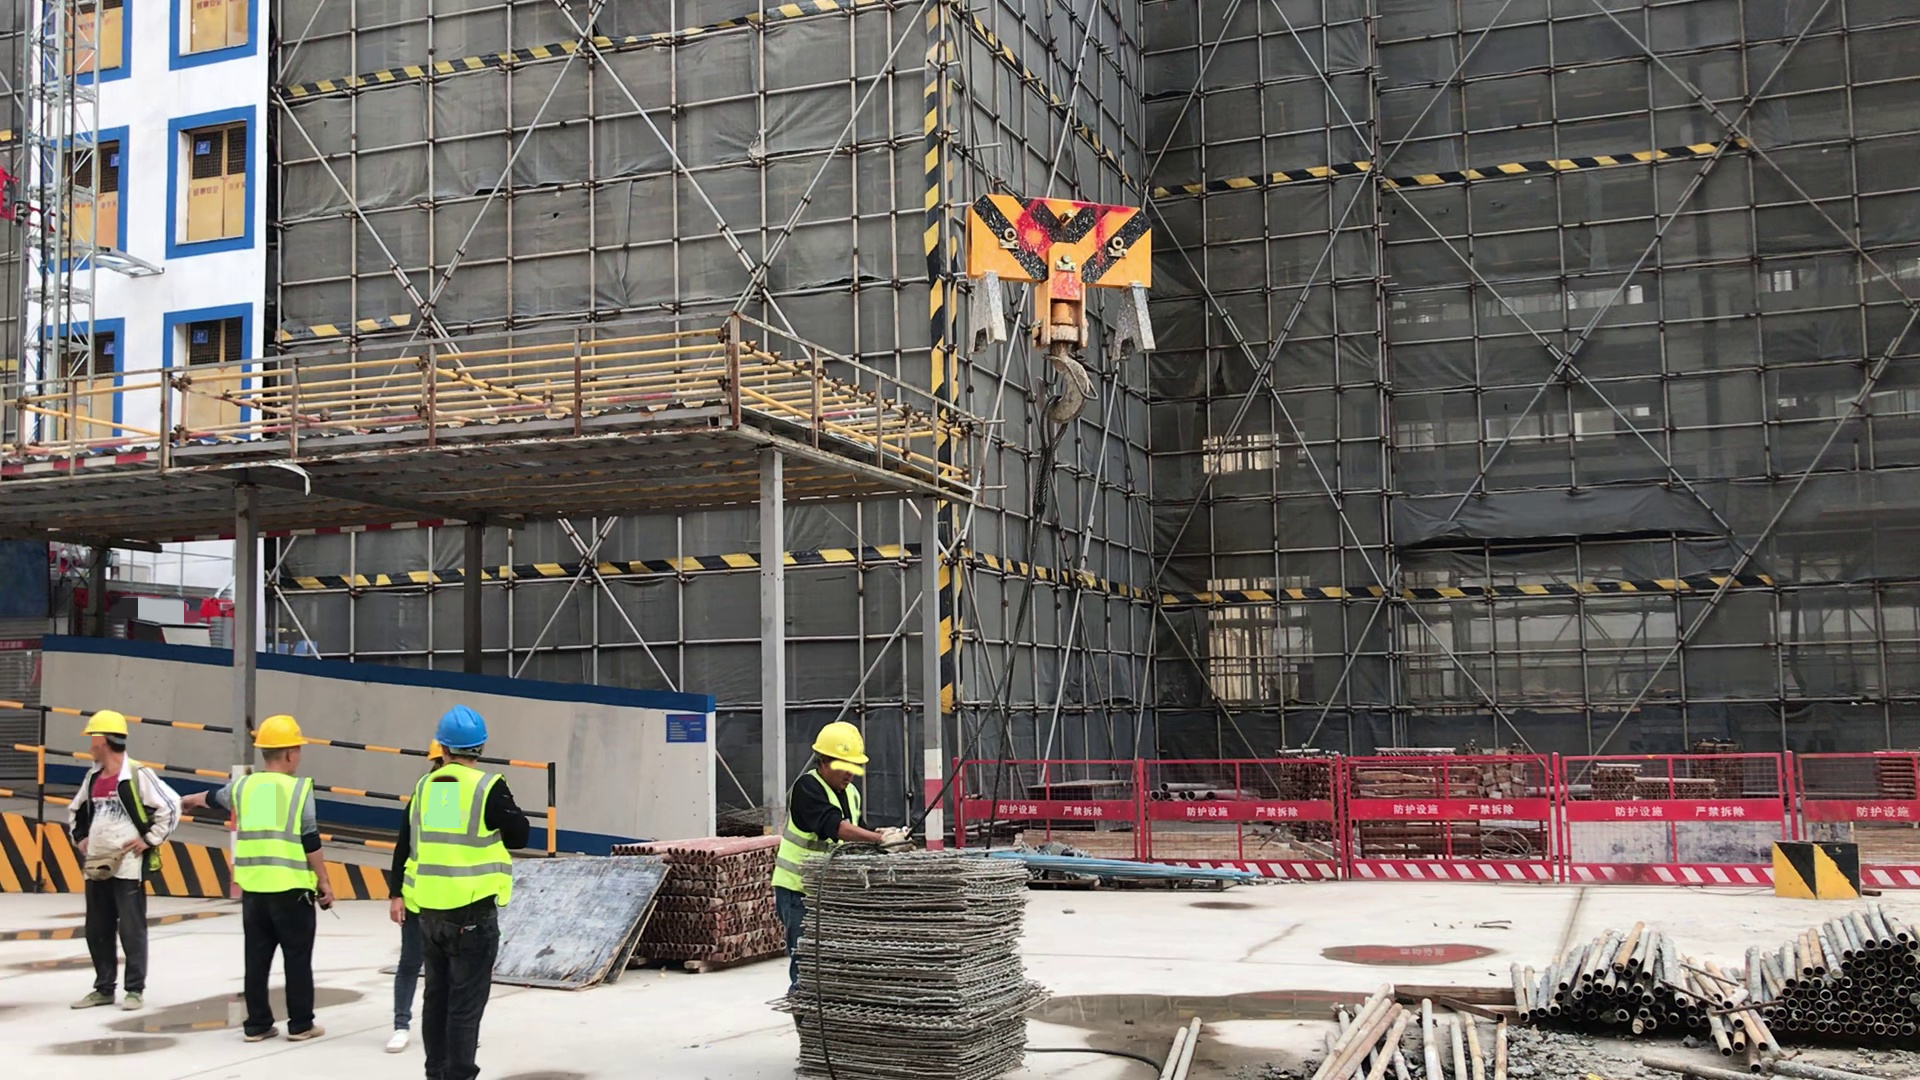fence: (941, 728, 1920, 913)
helmet: (811, 718, 881, 770), (72, 699, 142, 745), (260, 713, 316, 764), (439, 704, 491, 752)
hook: (954, 181, 1161, 365)
person: (232, 714, 341, 1042), (58, 694, 165, 1003), (426, 711, 510, 1080), (765, 705, 889, 918), (374, 731, 450, 1057)
scaffold: (1518, 910, 1920, 1058), (608, 834, 782, 970)
vest: (414, 763, 504, 914), (776, 778, 871, 909), (230, 772, 319, 892)
